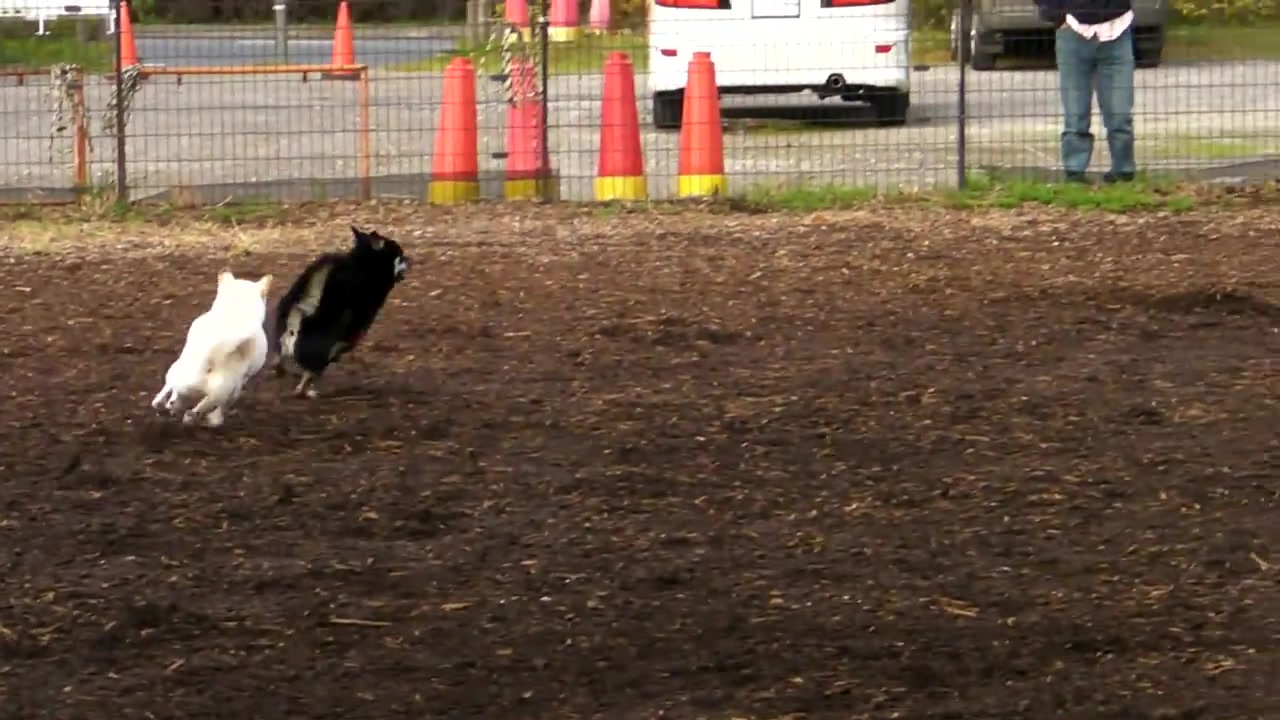dog: (150, 266, 278, 426)
